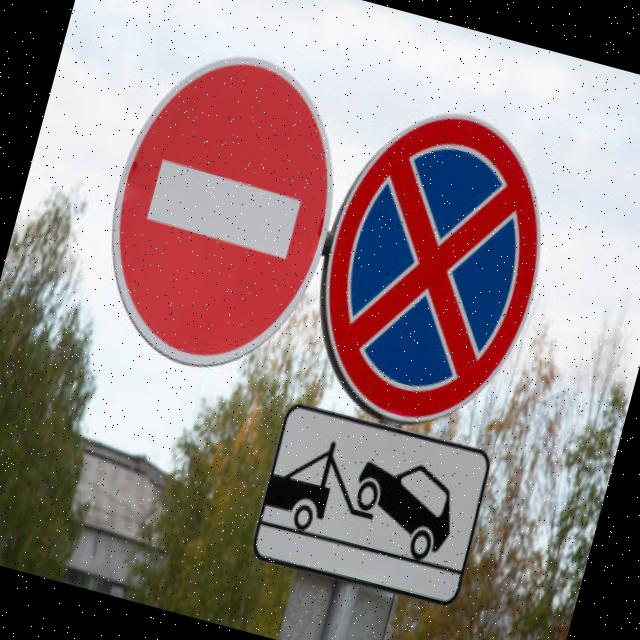do_not_enter: (74, 25, 367, 398)
no_parking: (288, 82, 580, 449)
